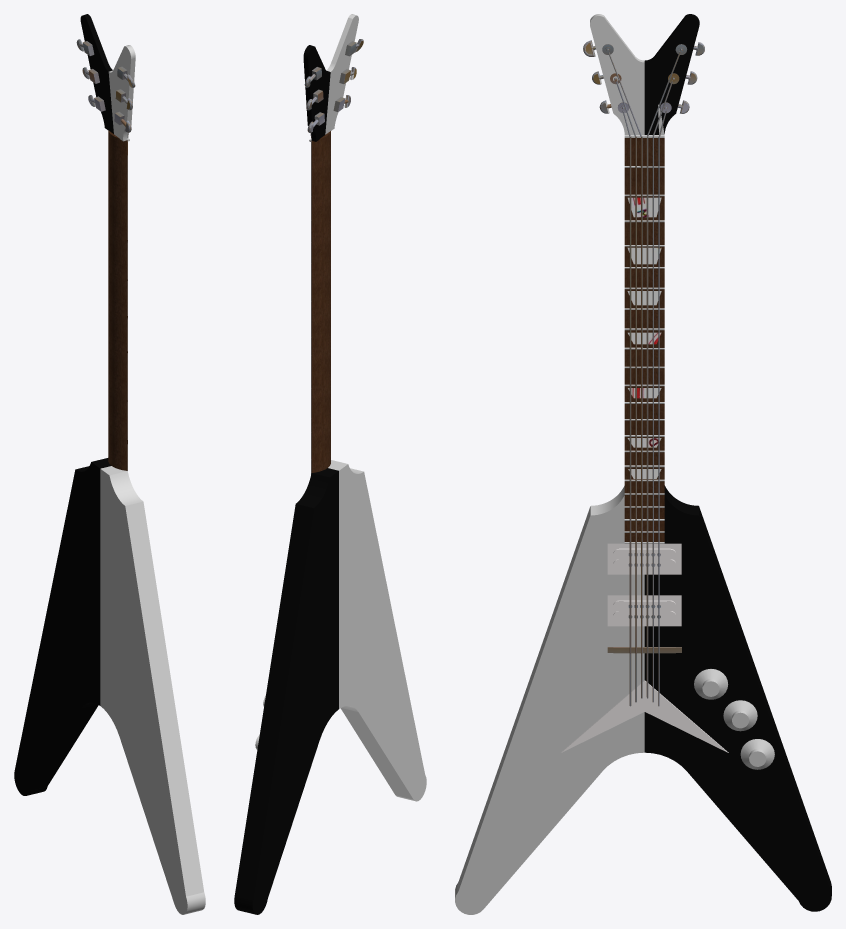
The picture shows the model from 3 angles, left to right: view 1: azimuth 30°, elevation 25°; view 2: azimuth 150°, elevation 25°; view 3: azimuth 270°, elevation 25°; orthographic projection. The views are drawn at different scales.
Parts seen in each view (by area): view 1: mesh1-geometry-0, mesh1-geometry-5, mesh1-geometry-2; view 2: mesh1-geometry-5, mesh1-geometry-0, mesh1-geometry-2; view 3: mesh1-geometry-0, mesh1-geometry-5, mesh1-geometry-2, mesh1-geometry-7, mesh1-geometry-8, mesh1-geometry-1, mesh4-geometry-1, mesh5-geometry-1, mesh12-geometry-2.
Boxes of the visible parts, x1=… form: mesh1-geometry-0: x1=100, y1=45, x2=205, y2=914; mesh1-geometry-5: x1=14, y1=14, x2=113, y2=795; mesh1-geometry-2: x1=108, y1=130, x2=127, y2=470; mesh1-geometry-5: x1=234, y1=45, x2=338, y2=914; mesh1-geometry-0: x1=255, y1=14, x2=426, y2=801; mesh1-geometry-2: x1=311, y1=131, x2=330, y2=472; mesh1-geometry-0: x1=455, y1=14, x2=774, y2=914; mesh1-geometry-5: x1=644, y1=14, x2=831, y2=911; mesh1-geometry-2: x1=624, y1=138, x2=664, y2=541; mesh1-geometry-7: x1=602, y1=44, x2=687, y2=706; mesh1-geometry-8: x1=561, y1=543, x2=728, y2=752; mesh1-geometry-1: x1=627, y1=197, x2=661, y2=478; mesh4-geometry-1: x1=629, y1=136, x2=631, y2=706; mesh5-geometry-1: x1=613, y1=548, x2=676, y2=570; mesh12-geometry-2: x1=613, y1=600, x2=676, y2=621.
Size of the model in its own units: 0.0325 by 0.9337 by 0.3565.
